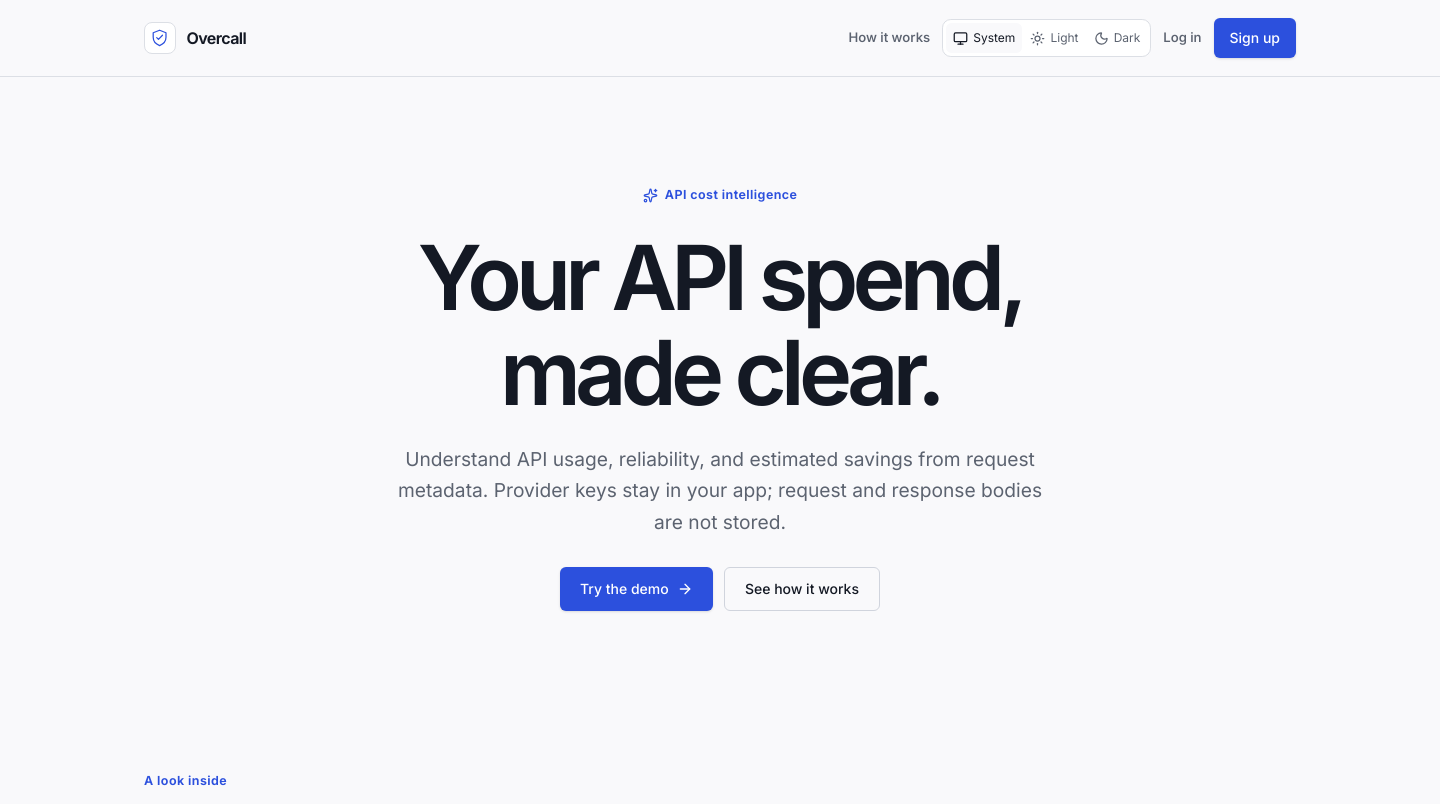
Test: landing page › exposes a working three-choice theme group
This screenshot has width=1440, height=804.
Click the button with aria-label "Use dark theme".
click(1117, 38)  # box [1087,23,1147,53]
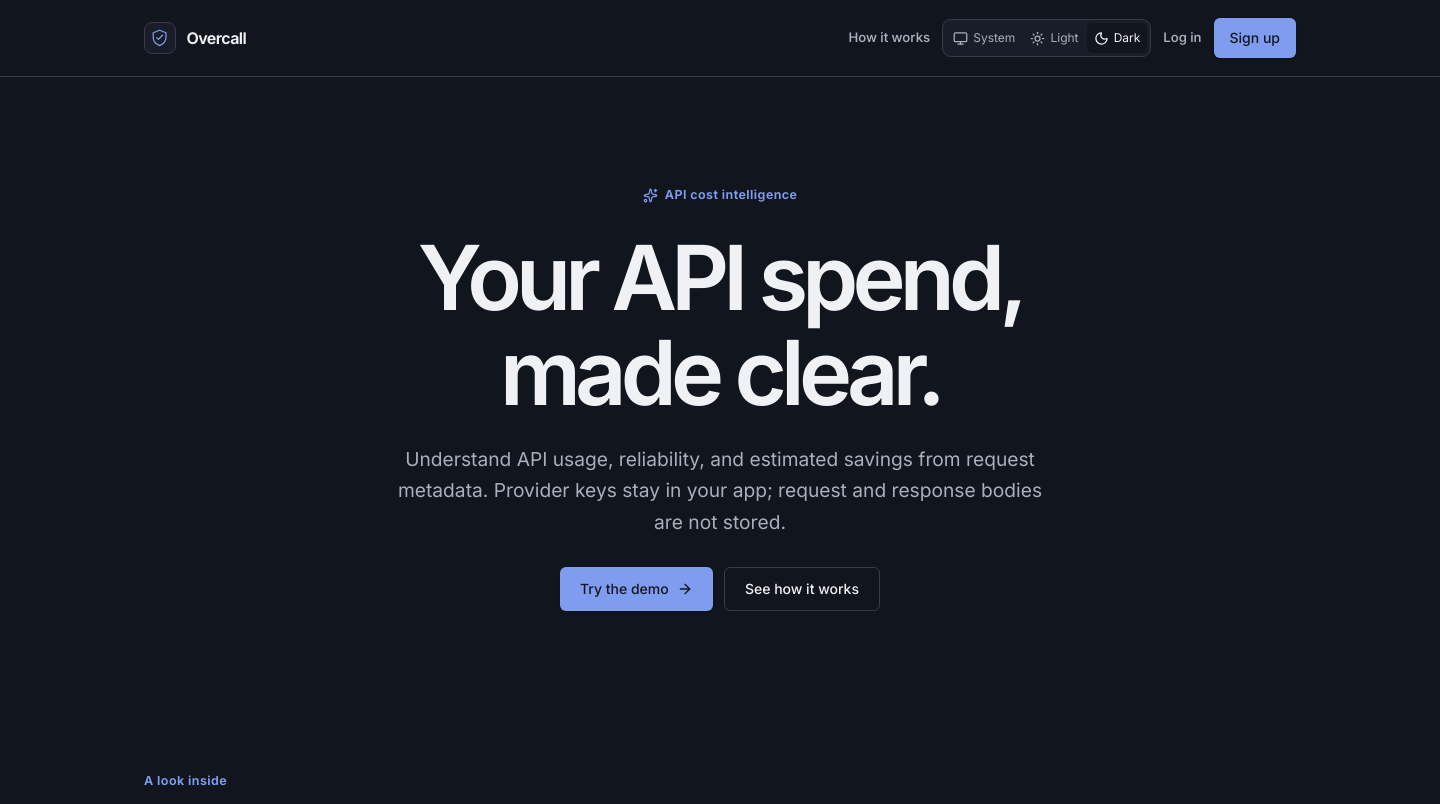
Check: the button with aria-label "Use dark theme" is pressed, box [1087,23,1147,53]
